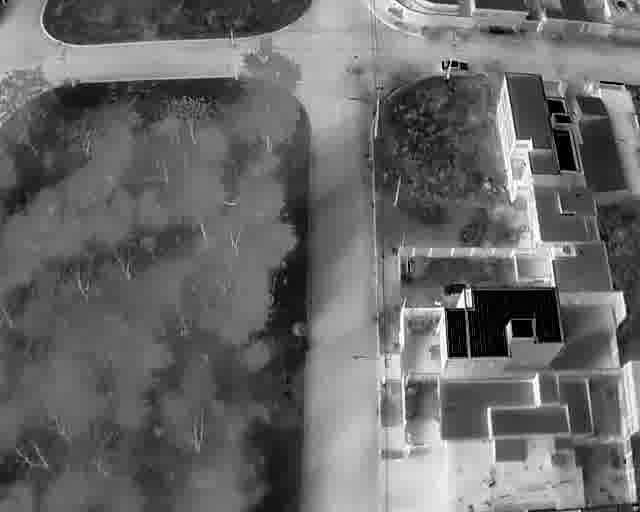car: (441, 58, 470, 72), (441, 282, 468, 296)
